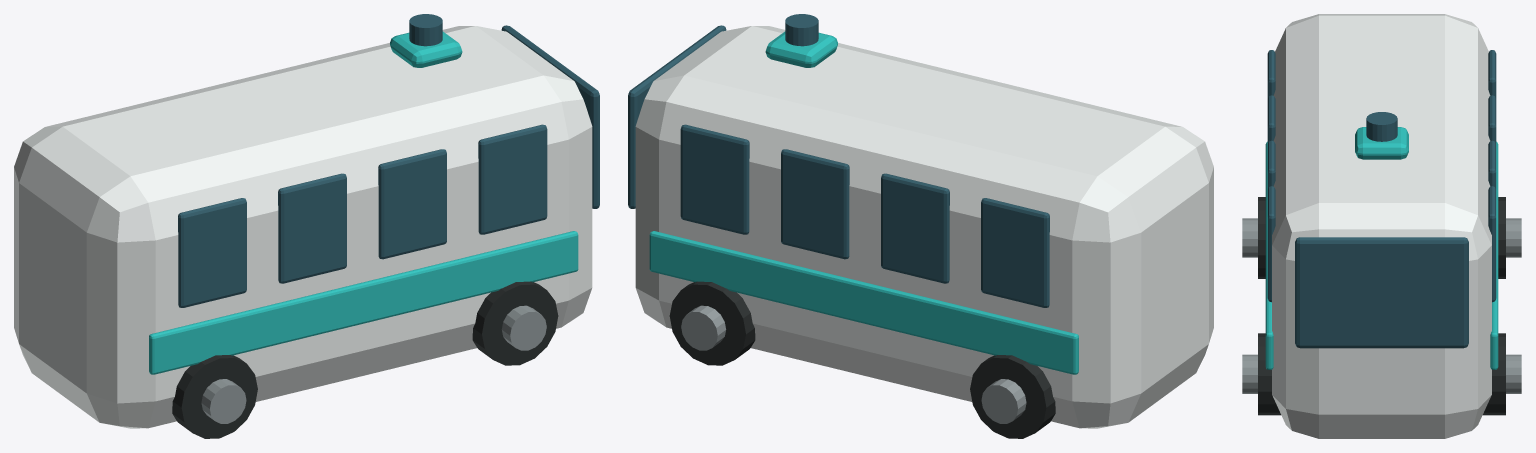
Rendered from transport-autonomous-shuttle.glb.
The picture shows the model from 3 angles, left to right: view 1: azimuth 30°, elevation 25°; view 2: azimuth 150°, elevation 25°; view 3: azimuth 270°, elevation 25°; orthographic projection. The views are drawn at different scales.
Parts seen in each view (by area): view 1: AutonomousShuttle; view 2: AutonomousShuttle; view 3: AutonomousShuttle.
Part boxes in pixels (x1,y1,x2,y2): AutonomousShuttle: [14, 14, 599, 438]; AutonomousShuttle: [628, 14, 1213, 438]; AutonomousShuttle: [1242, 14, 1521, 438].
Size of the model in its own units: 5.52 by 3.18 by 2.86.
